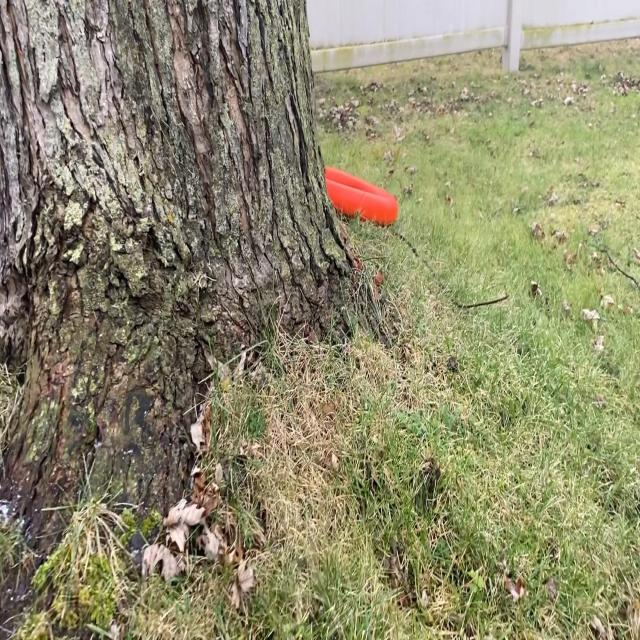note: (319, 161, 401, 234)
